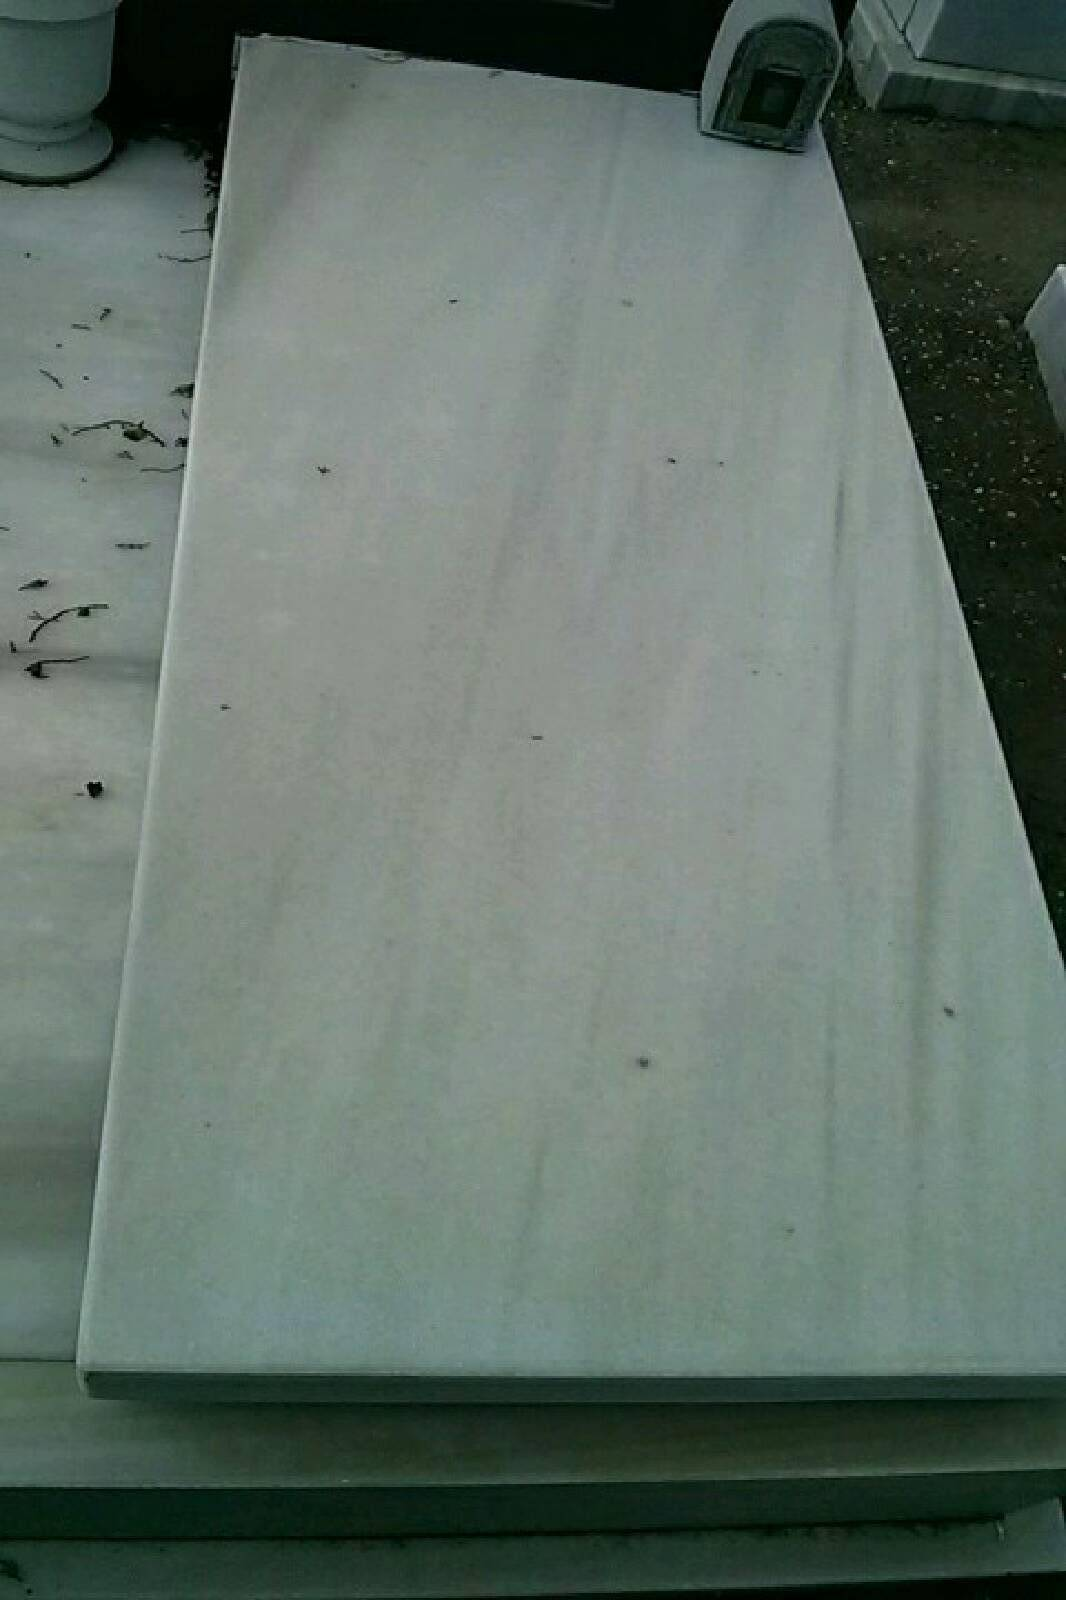vault: (80, 0, 1066, 1389)
